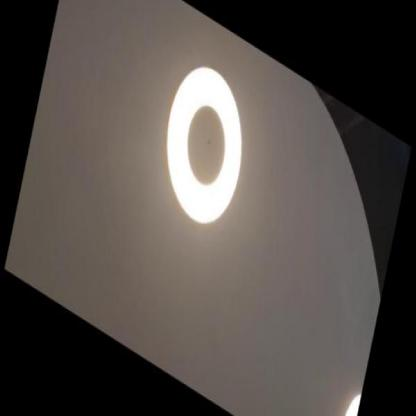light_on: (144, 34, 262, 252), (327, 370, 365, 415)
